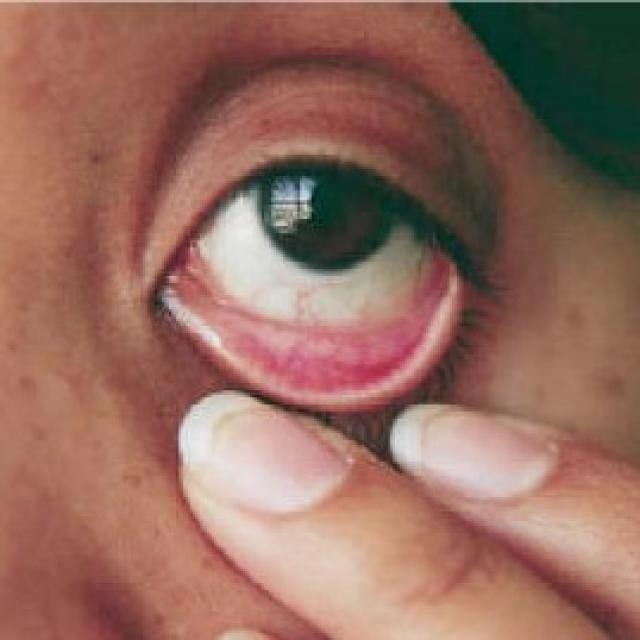conjunctiva_pallor: (175, 269, 450, 393)
